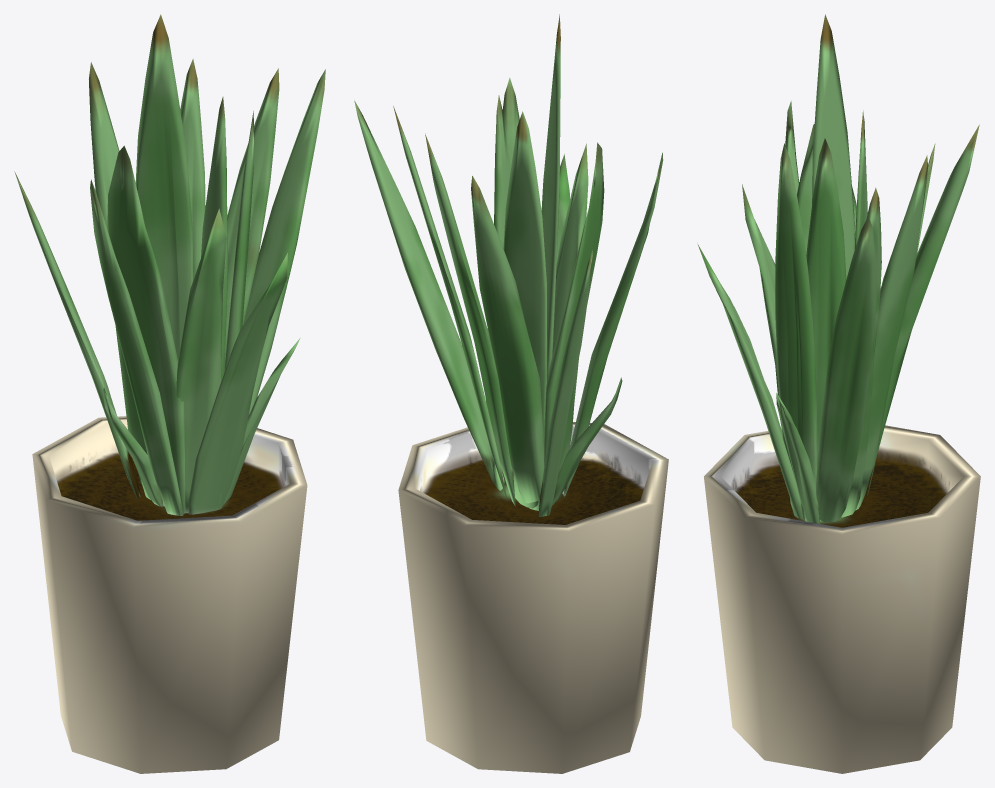
The model's file is aloe.glb.
3 renders of one model, left to right at view 1: azimuth 30°, elevation 25°; view 2: azimuth 150°, elevation 25°; view 3: azimuth 270°, elevation 25°, orthographic. The views are drawn at different scales.
Visible parts, largest first — view 1: PotPlant; view 2: PotPlant; view 3: PotPlant.
Boxes of the visible parts, bbox=[...] form: PotPlant: bbox=[14, 14, 325, 773]; PotPlant: bbox=[354, 14, 668, 773]; PotPlant: bbox=[697, 14, 980, 773].
Size of the model in its own units: 2.37 by 5.61 by 2.05.
Materials: 1 (1 with a texture image).
